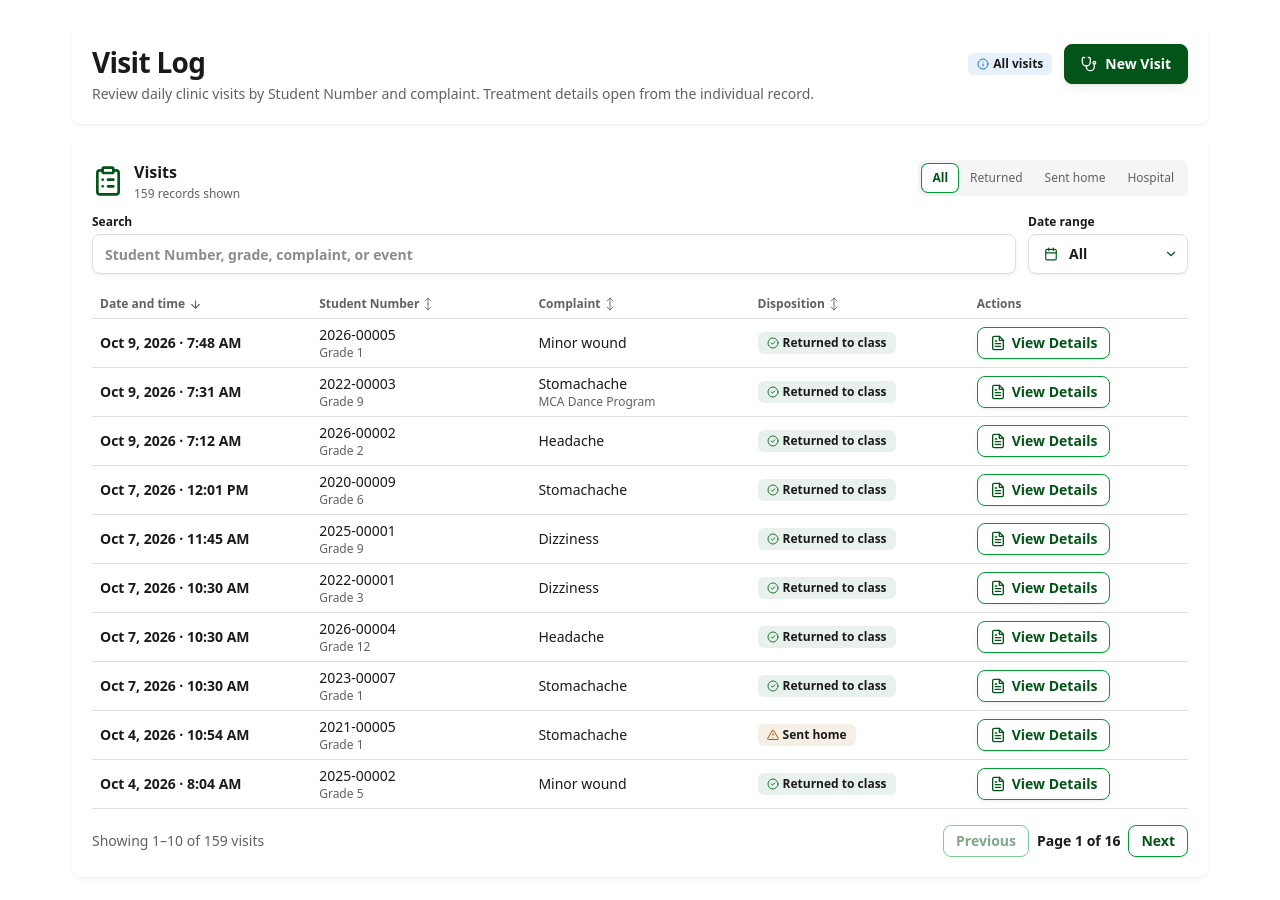
Scenario: UI/UX review regressions › paginates the visit log and reaches every visit, not only the first 120
Click the button "Next": click(1158, 841) left=1128, top=825, right=1188, bottom=857
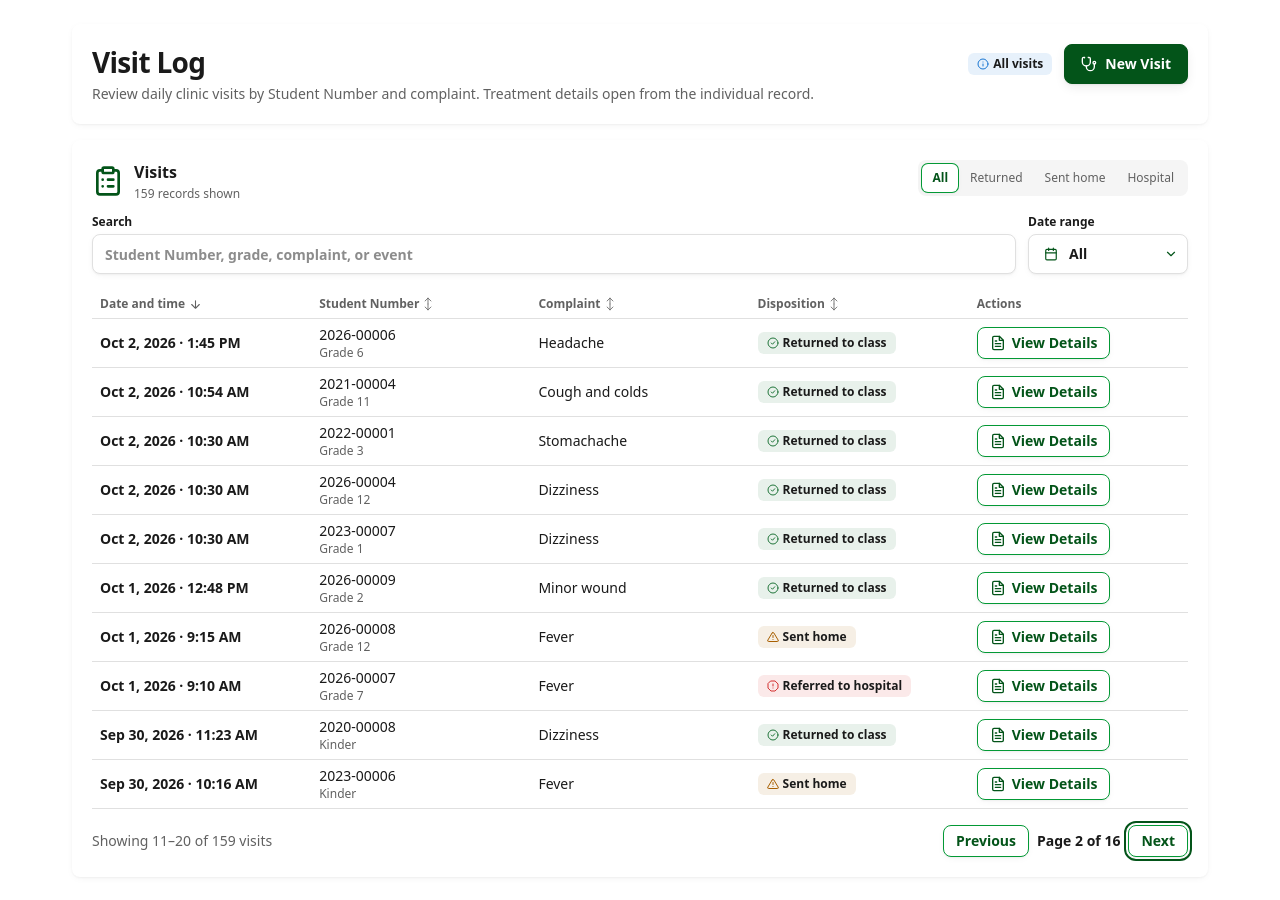
In the field labelled "Search": (554, 254) left=92, top=234, right=1016, bottom=274, type "2026"
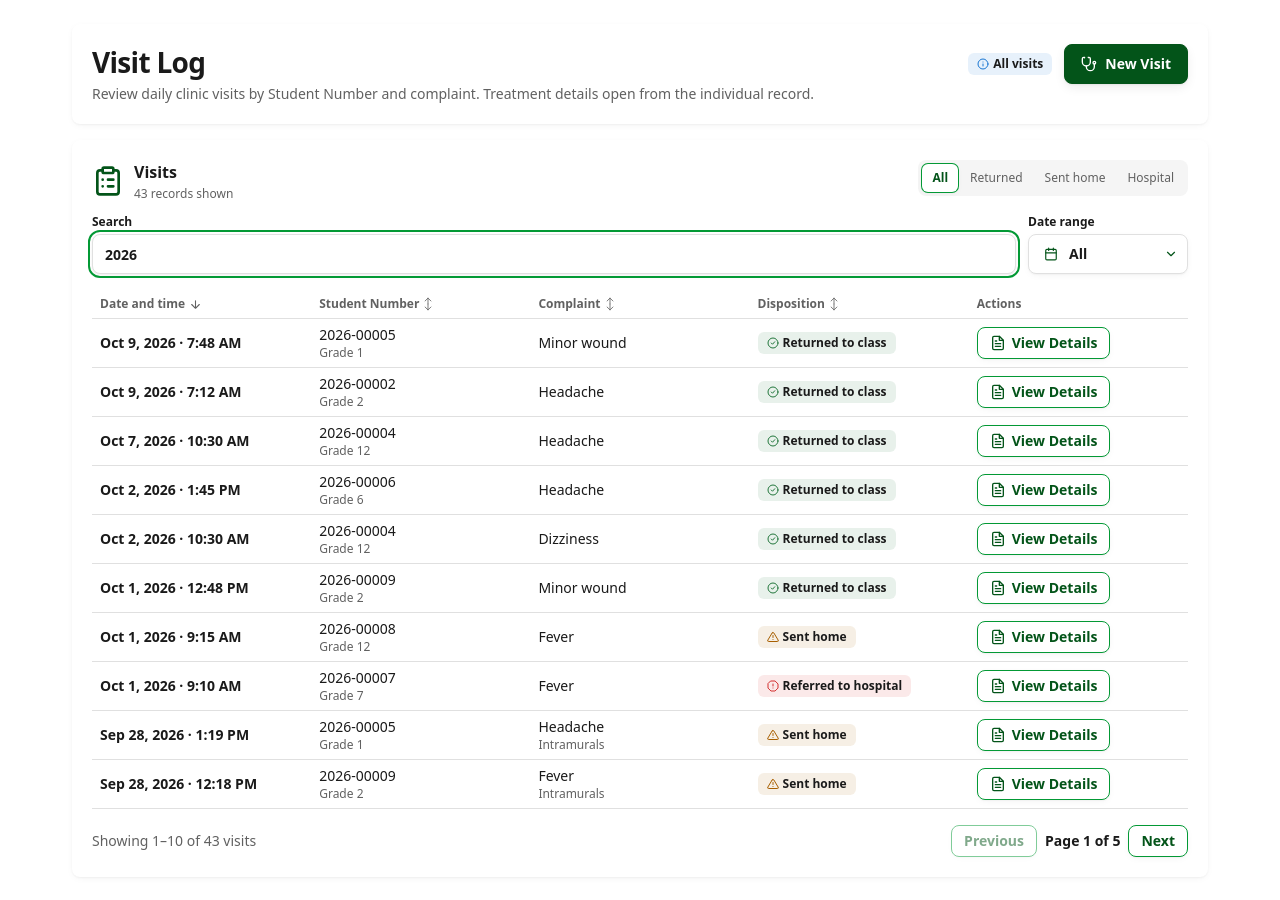
Expected: the text "Showing 1–10 of 43 visits" is shown, left=92, top=831, right=256, bottom=851
